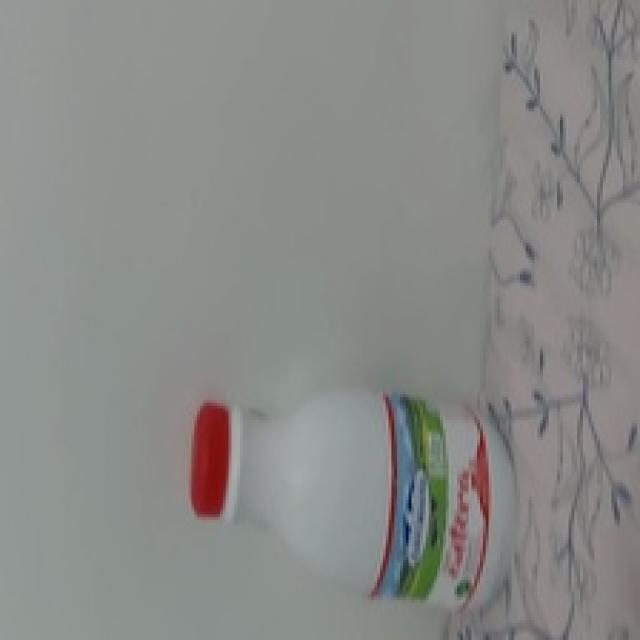Plastic: (190, 388, 528, 616)
